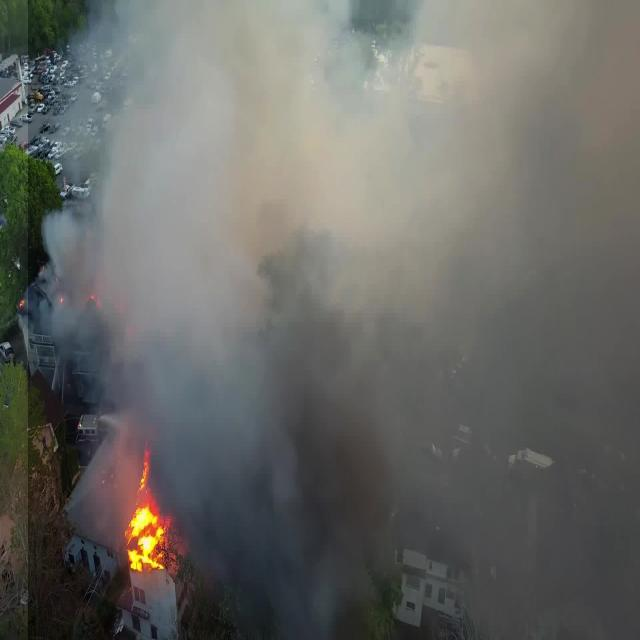Fire: (124, 468, 172, 582)
Smoke: (28, 0, 640, 640)
